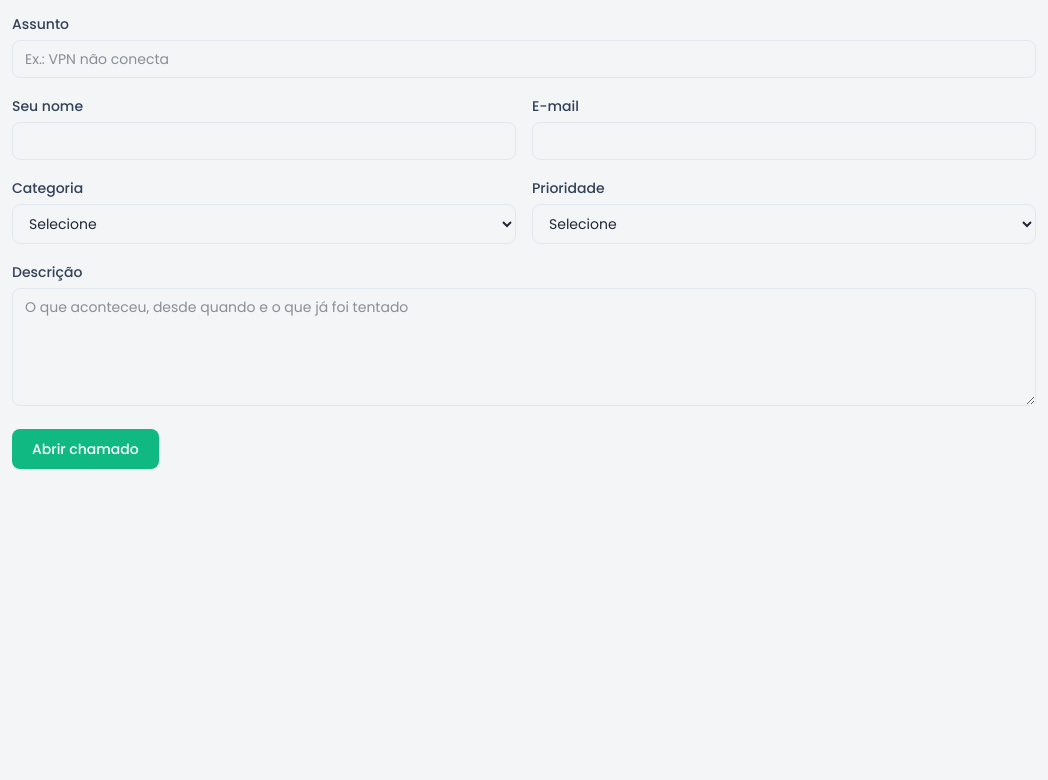
Test: o erro de um campo some assim que ele é corrigido
Click the button "Abrir chamado".
click(85, 449)  # box [12, 429, 159, 469]
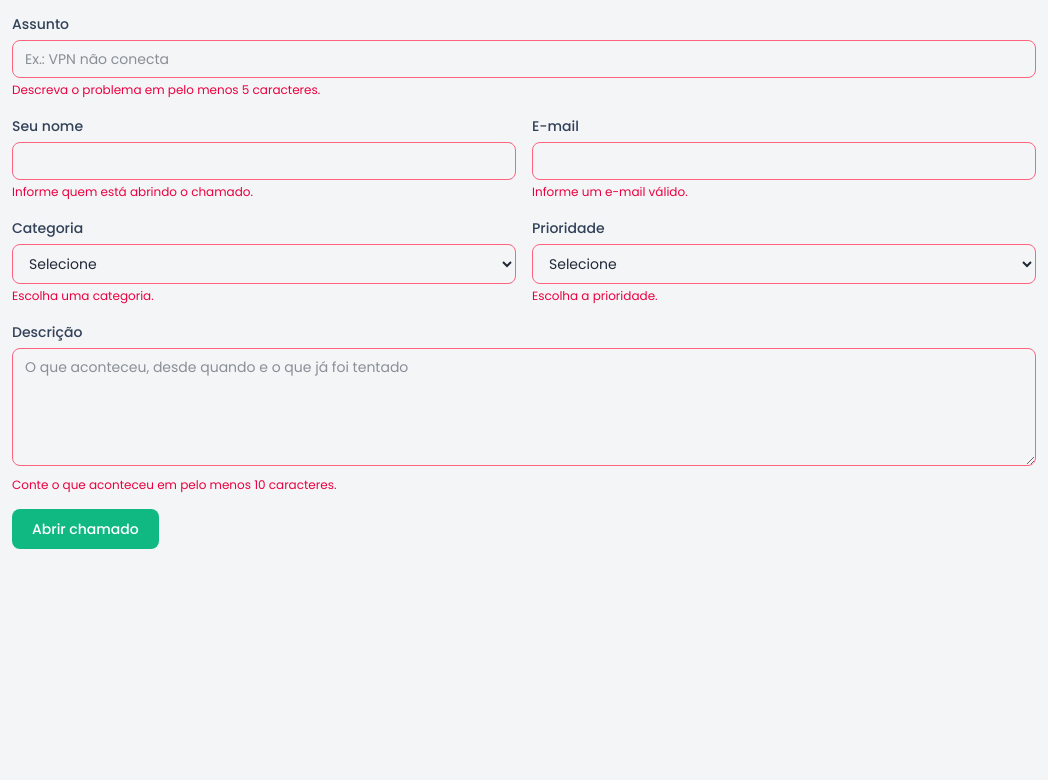
Type "teste@exemplo.com" into the field labelled "E-mail".
click(784, 161); type("teste@exemplo.com")  # box [532, 142, 1036, 180]
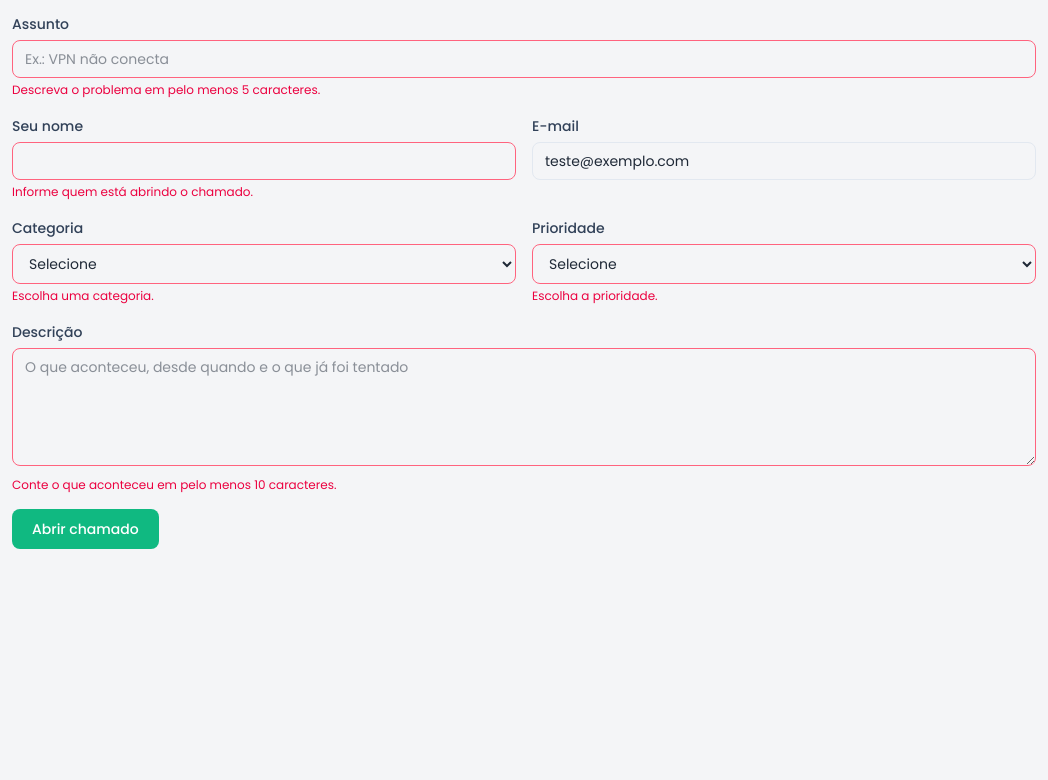
Expected: the text "Informe quem está abrindo o chamado." is shown, [12, 183, 253, 200]
Expected: the text "Informe um e-mail válido." is gone
